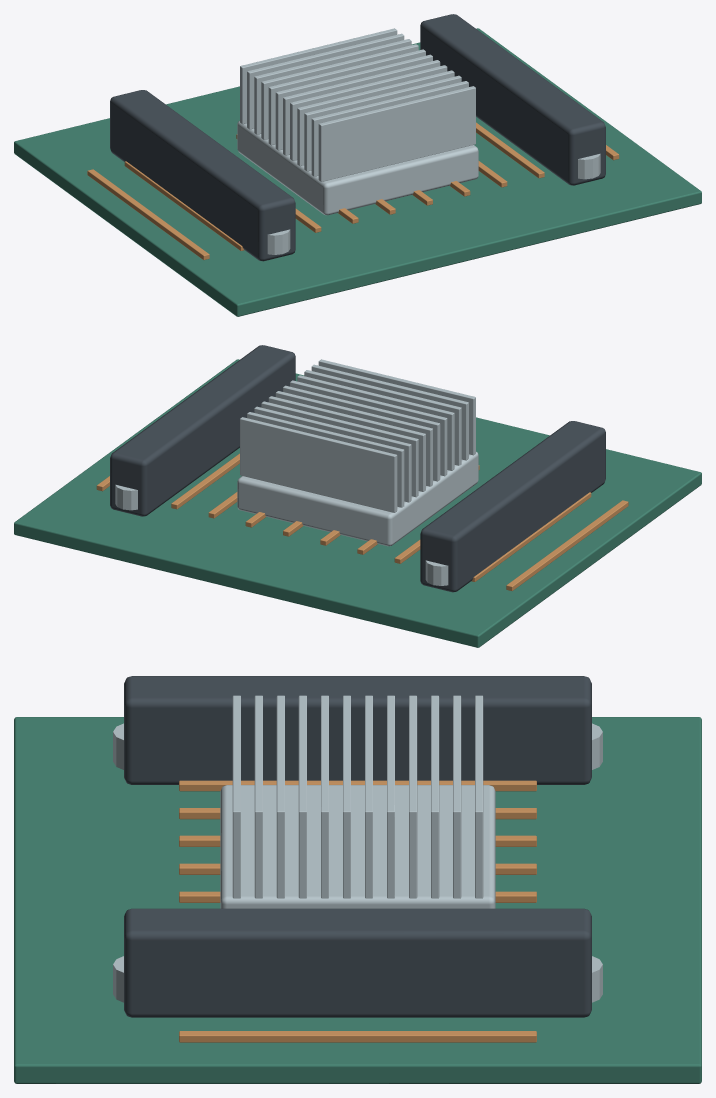
The model's file is ai-processor.glb.
3 renders of one model, top to bottom at view 1: azimuth 30°, elevation 25°; view 2: azimuth 150°, elevation 25°; view 3: azimuth 270°, elevation 25°, orthographic. The views are drawn at different scales.
Visible parts, largest first — view 1: data-centre-infiltration-kit-processor-board; view 2: data-centre-infiltration-kit-processor-board; view 3: data-centre-infiltration-kit-processor-board.
Part boxes in pixels (left/top/right/bottom): data-centre-infiltration-kit-processor-board: left=14, top=14, right=701, bottom=316; data-centre-infiltration-kit-processor-board: left=14, top=345, right=701, bottom=647; data-centre-infiltration-kit-processor-board: left=14, top=676, right=701, bottom=1083.
Bounding box in the file's own units: 0.3 × 0.063 × 0.25.
